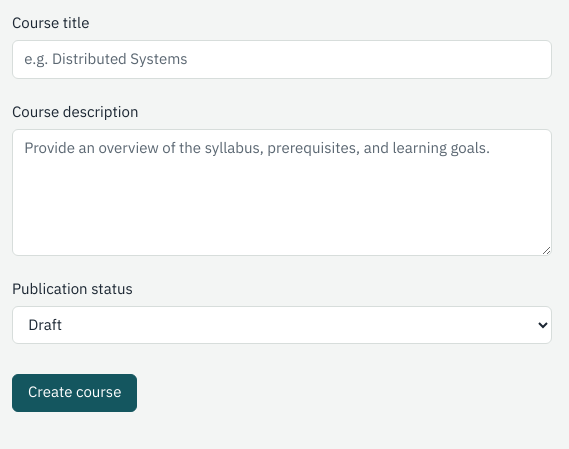
Test: CourseForm Component › validates required title and prevents submit when empty
The image size is (569, 449).
Click the button "Create course".
click(75, 393)  # box [12,374,137,412]
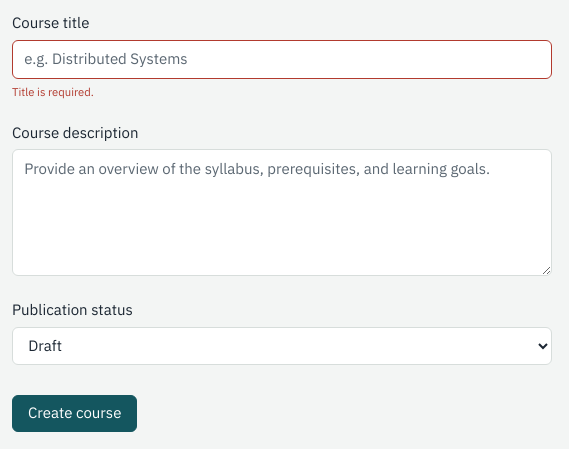
Expected: the text "Title is required." is shown, [12,84,94,99]
